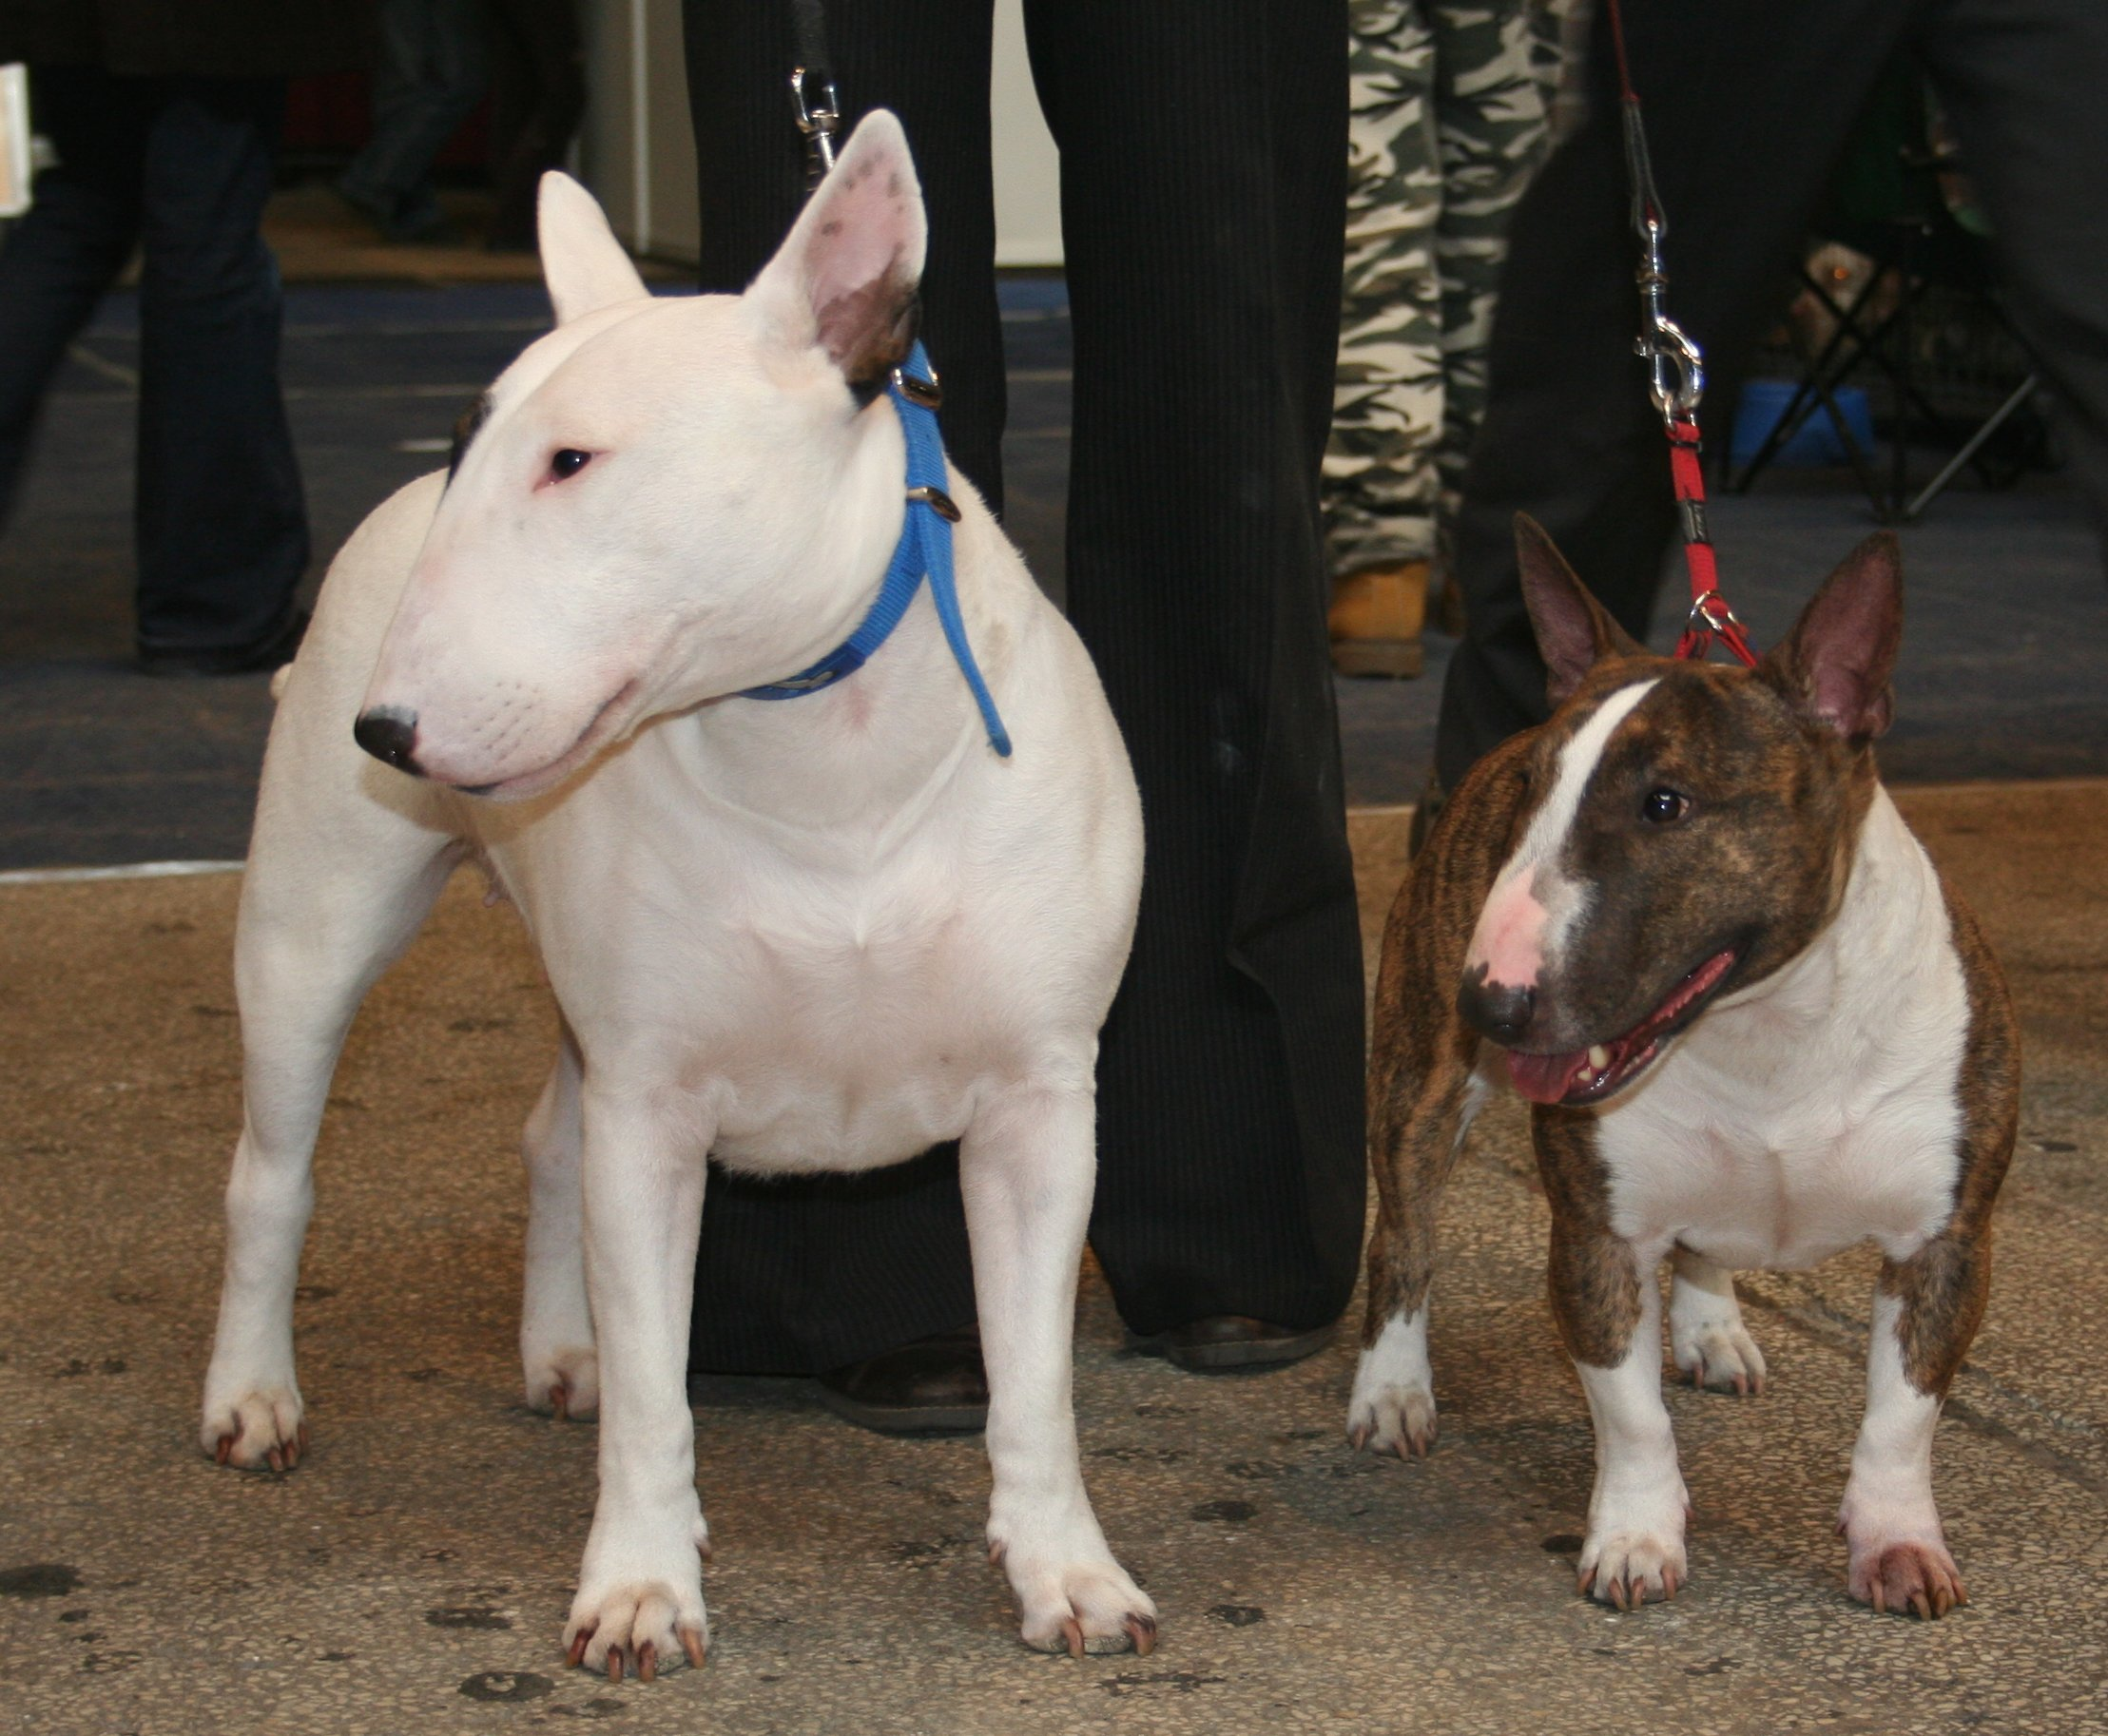bull_terrier: (194, 101, 1157, 1680), (1343, 513, 2019, 1622)
